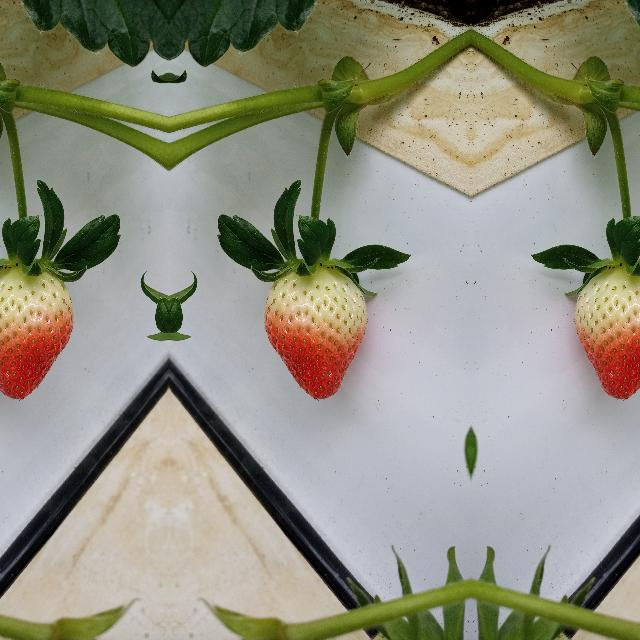Health_50: (263, 264, 367, 401), (0, 263, 73, 400), (574, 263, 640, 400)
